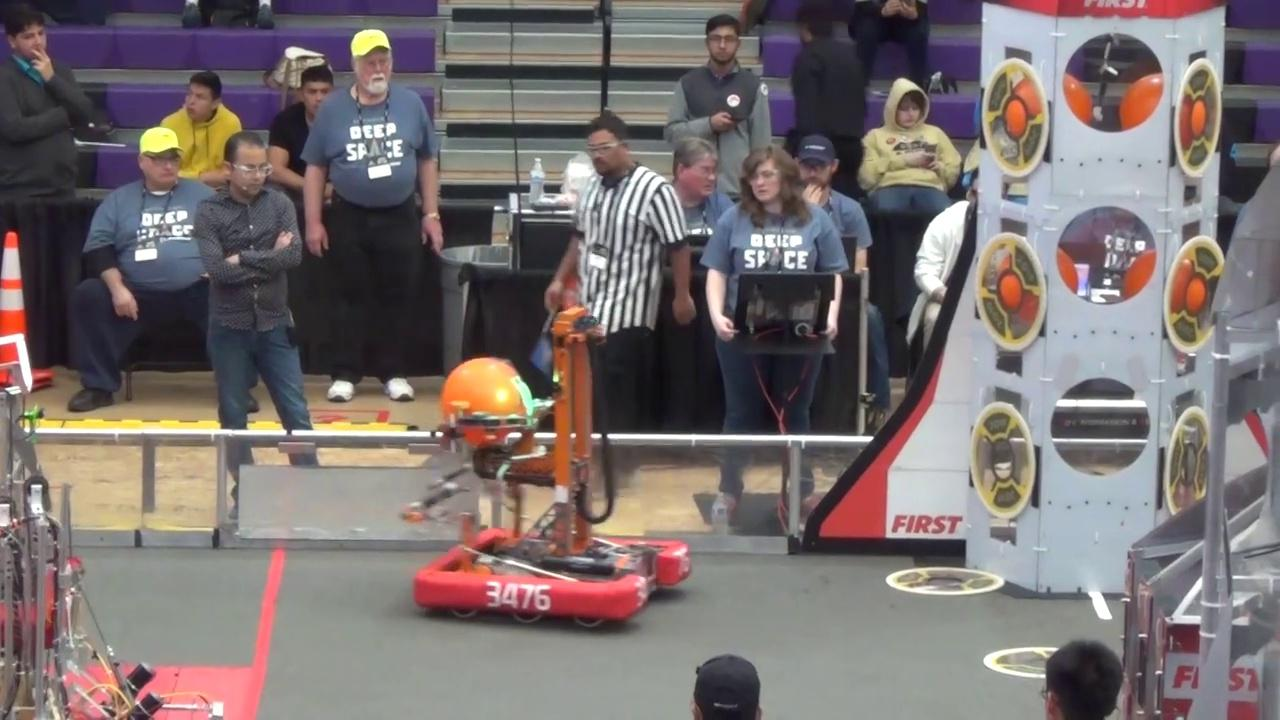robot: (400, 303, 698, 641)
